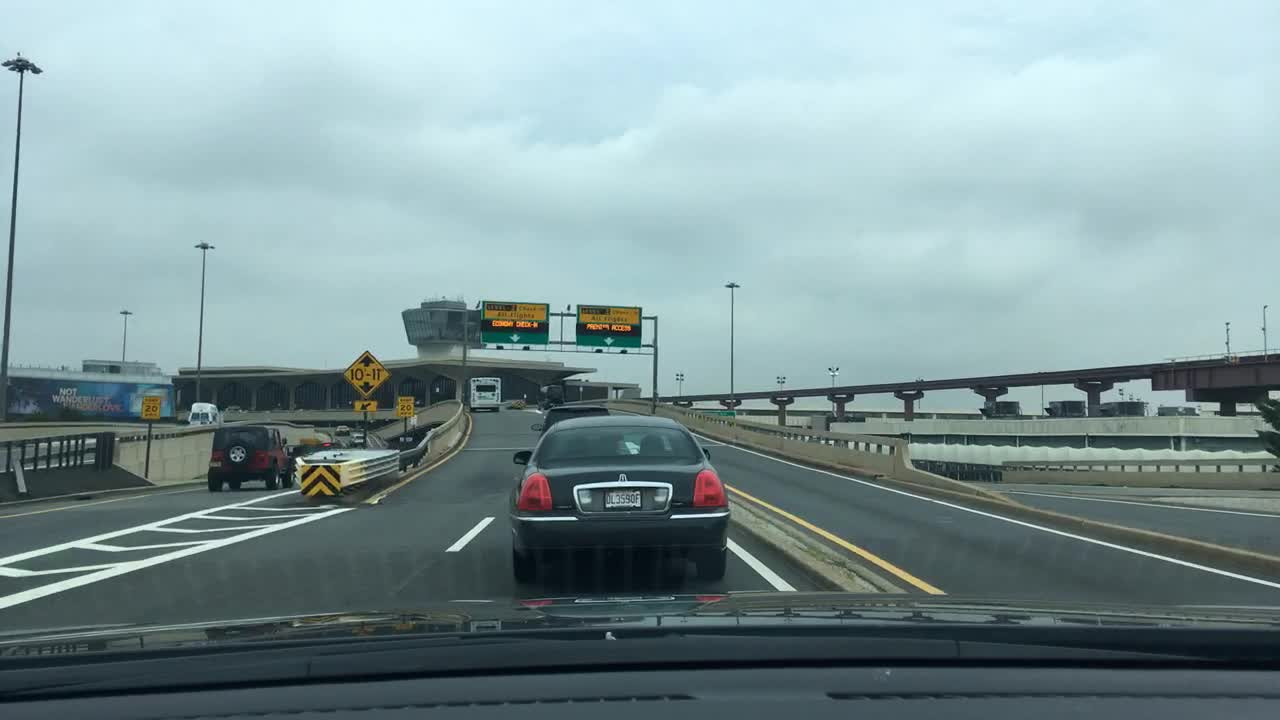bus: (466, 374, 503, 414), (539, 381, 562, 410)
car: (510, 415, 729, 584), (205, 421, 297, 493), (531, 401, 606, 442), (185, 401, 219, 426), (300, 439, 345, 456), (502, 396, 526, 411)
traffic sign: (476, 301, 551, 346), (576, 301, 643, 346), (346, 346, 389, 396), (140, 396, 163, 421), (395, 393, 413, 417), (351, 400, 376, 411)
